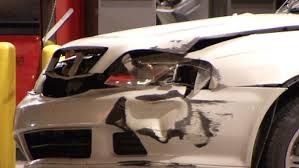Broken-glass: (117, 53, 209, 89)
Dent: (131, 100, 187, 132)
Scratch: (111, 92, 230, 148), (151, 36, 207, 53)
